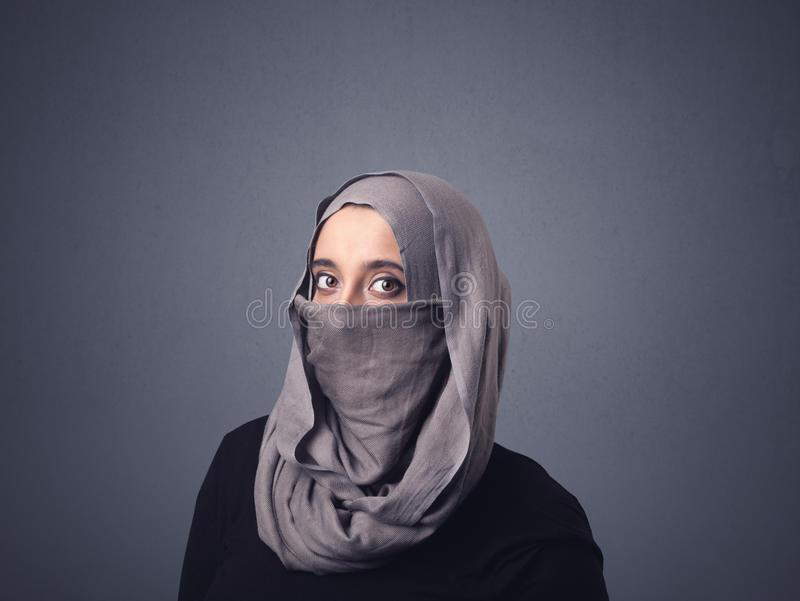No Mask: (270, 186, 564, 513)
